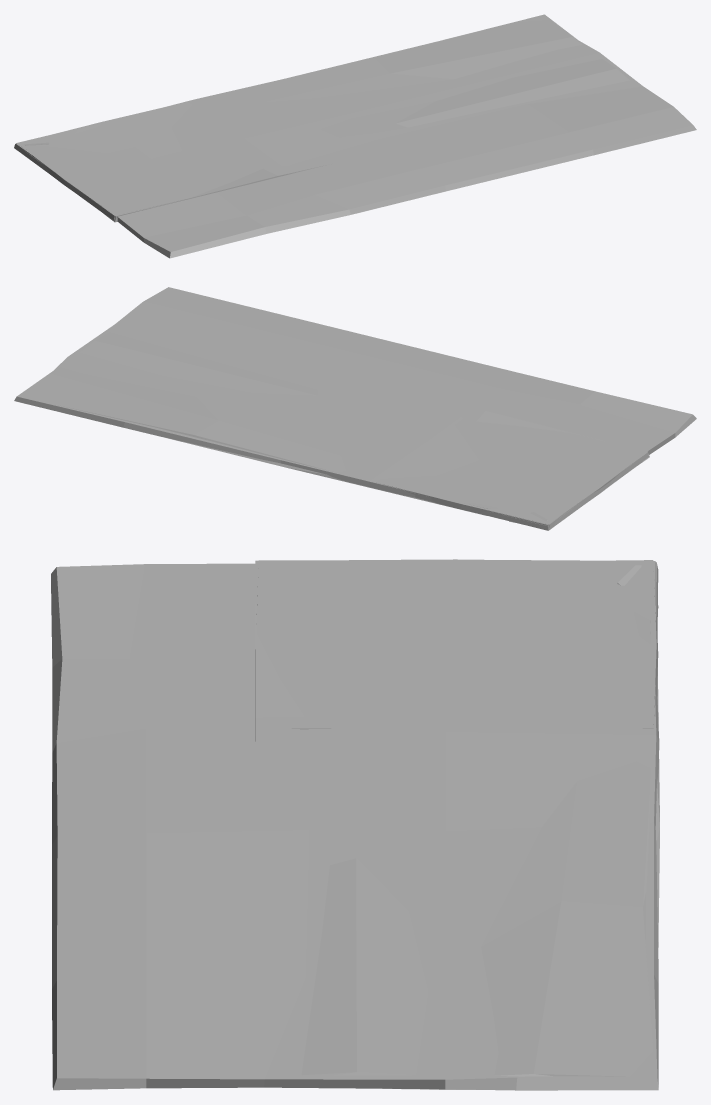
Rendered from bz_path_collection.fbx.
3 views of the same model, one above another, from view 1: azimuth 30°, elevation 25°; view 2: azimuth 150°, elevation 25°; view 3: azimuth 270°, elevation 25° (orthographic). The views are drawn at different scales.
Visible parts, largest first — view 1: bz_path_07, bz_path_05, bz_path_02, bz_path_04, bz_path_06; view 2: bz_path_07, bz_path_05, bz_path_02, bz_path_04, bz_path_06, bz_path_01; view 3: bz_path_07, bz_path_05, bz_path_02, bz_path_04, bz_path_06.
Part boxes in pixels (bbox=[...]): bz_path_07: bbox=[117, 14, 696, 258]; bz_path_05: bbox=[24, 20, 629, 222]; bz_path_02: bbox=[14, 144, 278, 220]; bz_path_04: bbox=[15, 101, 192, 158]; bz_path_06: bbox=[18, 143, 159, 217]; bz_path_07: bbox=[14, 287, 696, 497]; bz_path_05: bbox=[26, 332, 649, 522]; bz_path_02: bbox=[455, 416, 648, 530]; bz_path_04: bbox=[376, 460, 565, 529]; bz_path_06: bbox=[517, 441, 648, 523]; bz_path_01: bbox=[405, 464, 611, 525]; bz_path_07: bbox=[51, 563, 659, 1090]; bz_path_05: bbox=[255, 565, 659, 1089]; bz_path_02: bbox=[256, 560, 658, 729]; bz_path_04: bbox=[456, 560, 658, 728]; bz_path_06: bbox=[255, 559, 651, 639].
Size of the model in its own units: 5.95 by 0.0804 by 2.95.
